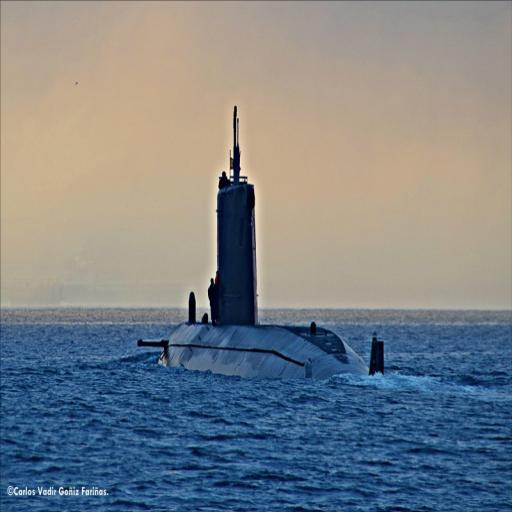submarine: (145, 172, 393, 383)
